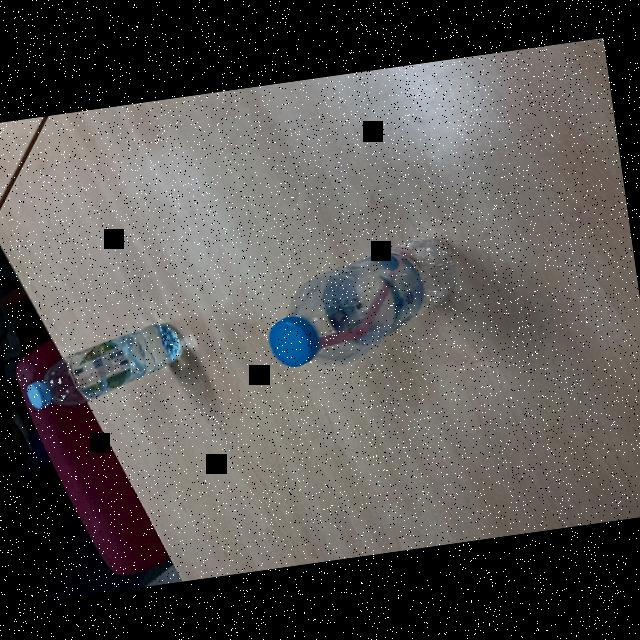plastic_bottle: (254, 232, 471, 376), (18, 319, 190, 412)
plastic_bottle_cap: (262, 313, 322, 371), (26, 379, 54, 408)
straw: (306, 268, 408, 352)
